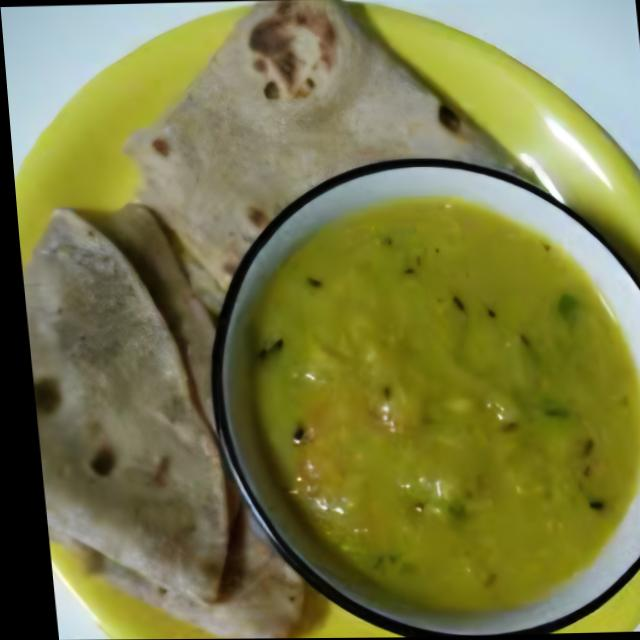CHAPATHI: (24, 0, 521, 639)
DAL: (240, 200, 640, 616)
